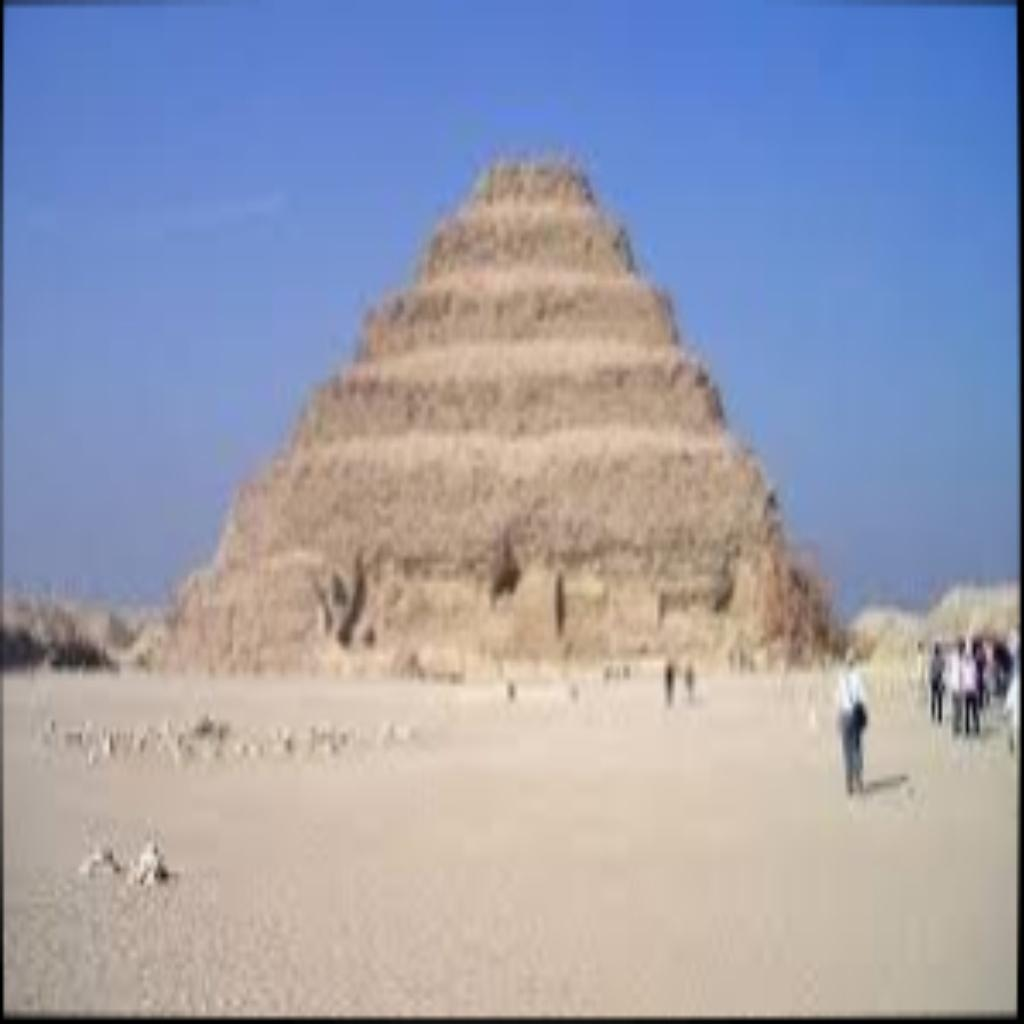Pyramid of Djoser: (161, 140, 832, 672)
